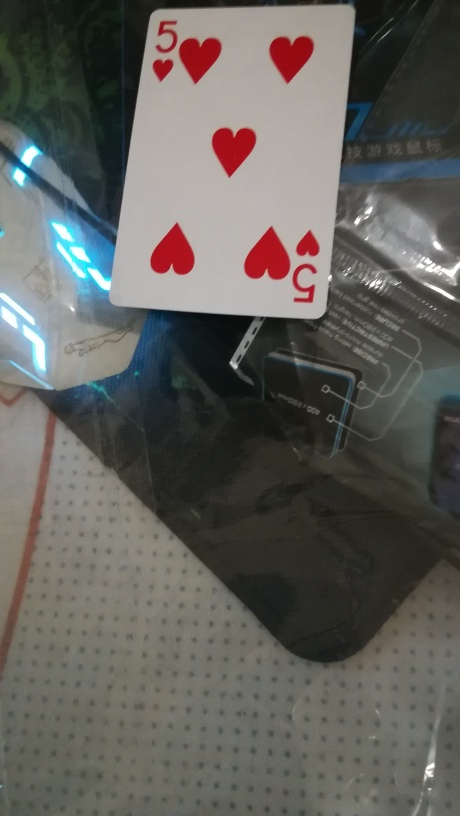hx 5: (108, 1, 358, 325)
